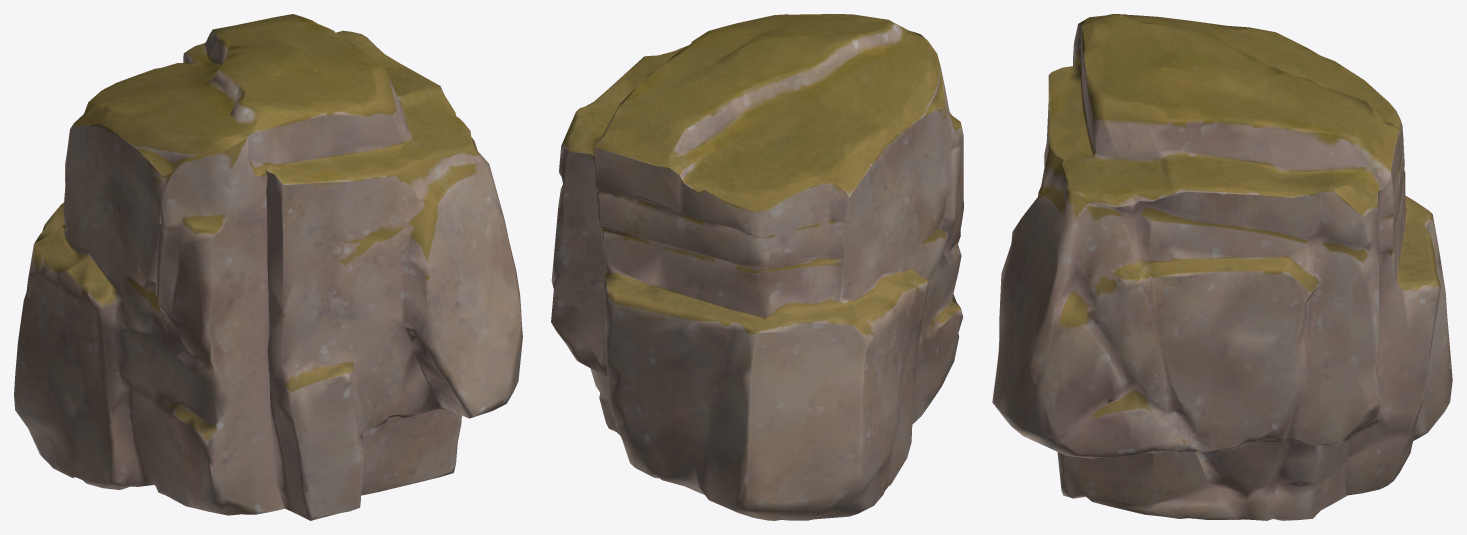
The picture shows the model from 3 angles, left to right: view 1: azimuth 30°, elevation 25°; view 2: azimuth 150°, elevation 25°; view 3: azimuth 270°, elevation 25°; orthographic projection. The views are drawn at different scales.
Visible parts, largest first — view 1: Rock_01_Low; view 2: Rock_01_Low; view 3: Rock_01_Low.
Part boxes in pixels (bbox=[...]): Rock_01_Low: bbox=[14, 14, 522, 520]; Rock_01_Low: bbox=[551, 14, 963, 520]; Rock_01_Low: bbox=[992, 14, 1452, 520].
Size of the model in its own units: 211 by 240 by 239.
1 material, 1 textured.
